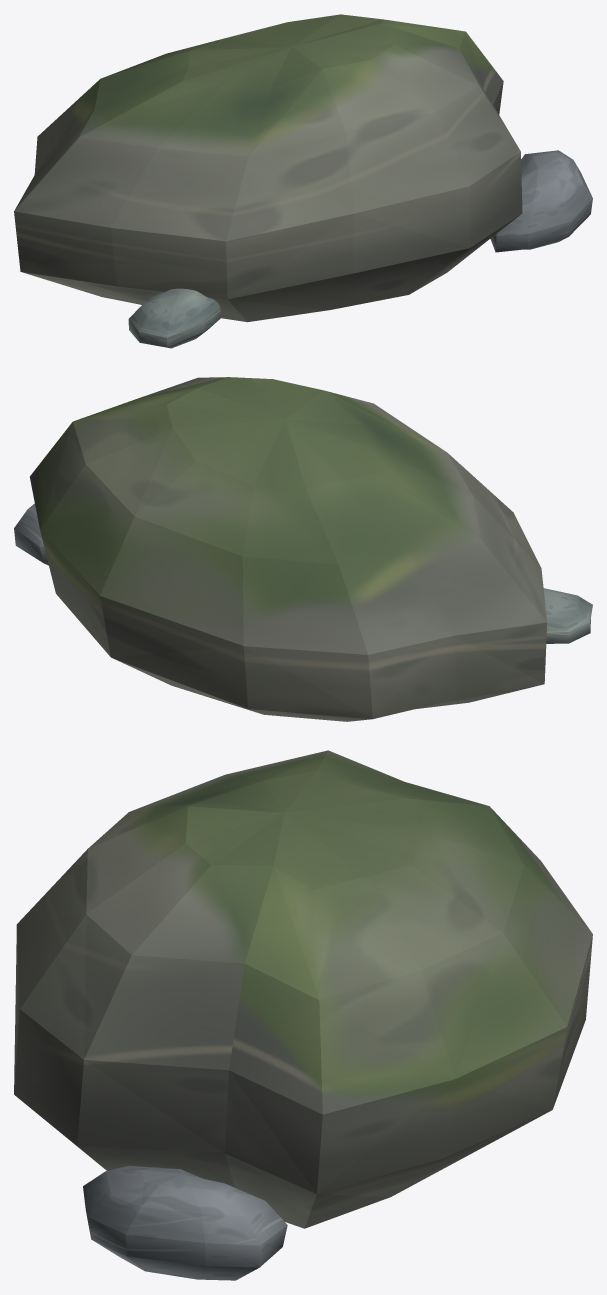
The model's file is SM_ForestWater_MossStone.fbx.
The picture shows the model from 3 angles, top to bottom: view 1: azimuth 30°, elevation 25°; view 2: azimuth 150°, elevation 25°; view 3: azimuth 270°, elevation 25°; orthographic projection. The views are drawn at different scales.
Parts seen in each view (by area): view 1: SM_ForestWater_MossStone; view 2: SM_ForestWater_MossStone; view 3: SM_ForestWater_MossStone.
Part boxes in pixels (<box>): SM_ForestWater_MossStone: <box>14,14,592,348</box>; SM_ForestWater_MossStone: <box>14,377,592,721</box>; SM_ForestWater_MossStone: <box>14,750,592,1280</box>.
Size of the model in its own units: 107 by 70.75 by 44.25.
Materials: 1 (1 with a texture image).
